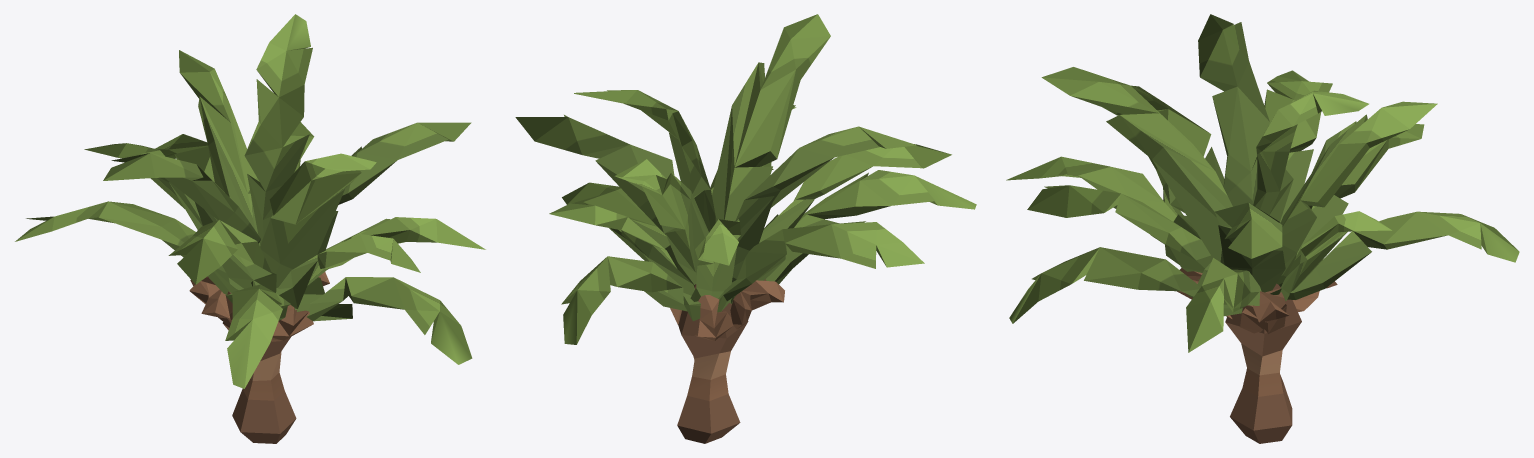
Rendered from SM_Env_Tree_Bush_02.fbx.
3 views of the same model, side by side, from view 1: azimuth 30°, elevation 25°; view 2: azimuth 150°, elevation 25°; view 3: azimuth 270°, elevation 25° (orthographic). The views are drawn at different scales.
Visible parts, largest first — view 1: SM_Env_Tree_Bush_02; view 2: SM_Env_Tree_Bush_02; view 3: SM_Env_Tree_Bush_02.
Part boxes in pixels (box(x1,y1,x2,y2)): SM_Env_Tree_Bush_02: box(15, 14, 485, 443); SM_Env_Tree_Bush_02: box(515, 14, 976, 443); SM_Env_Tree_Bush_02: box(1006, 14, 1519, 443).
Bounding box in the file's own units: 350 × 282 × 351.
